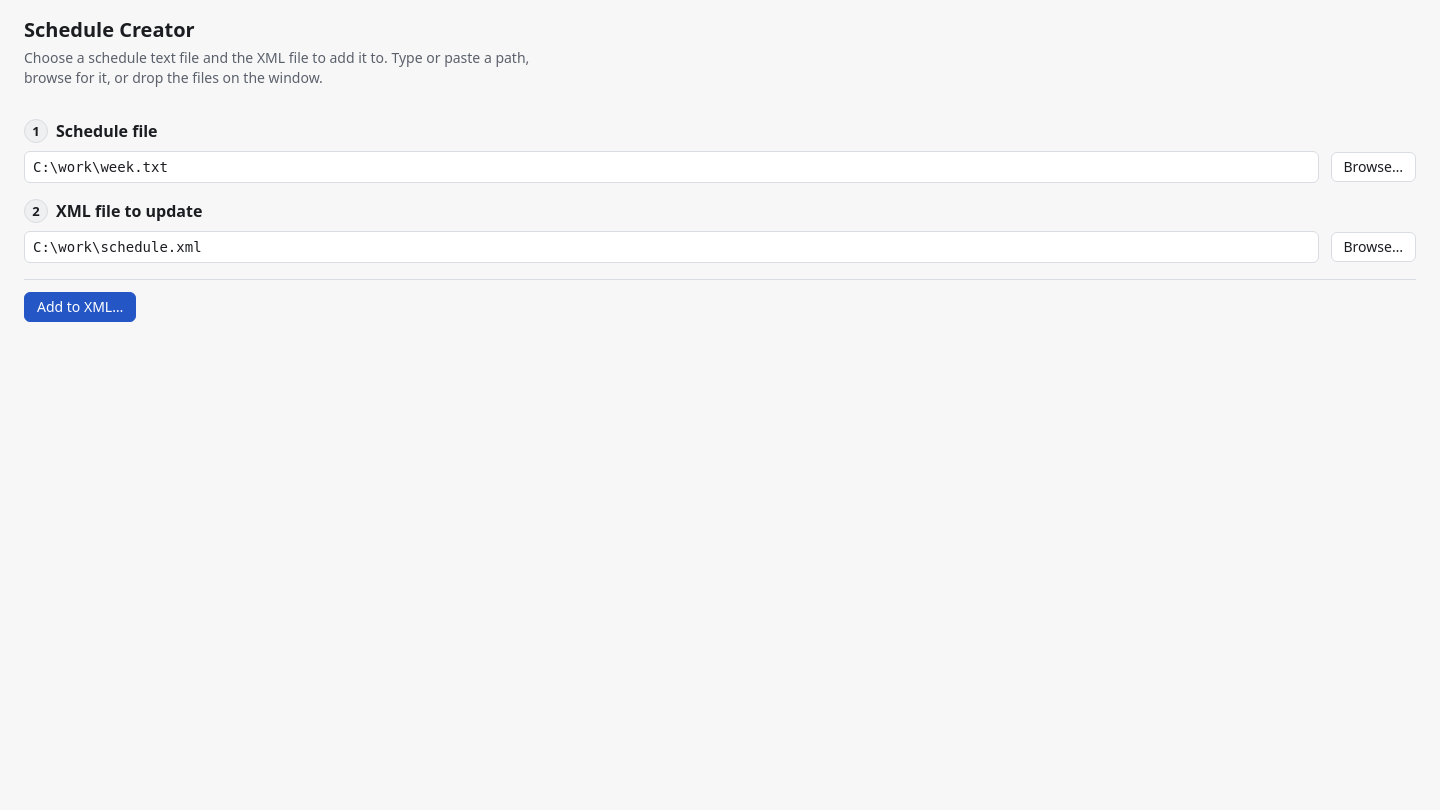
Test: adding confirms first, then reports the backup and moves focus to it
Expected: the field labelled "Schedule file" is shown, [24,151,1318,183]
Click the button "Add to XML…". click: (80, 307)
box: [24,292,136,322]
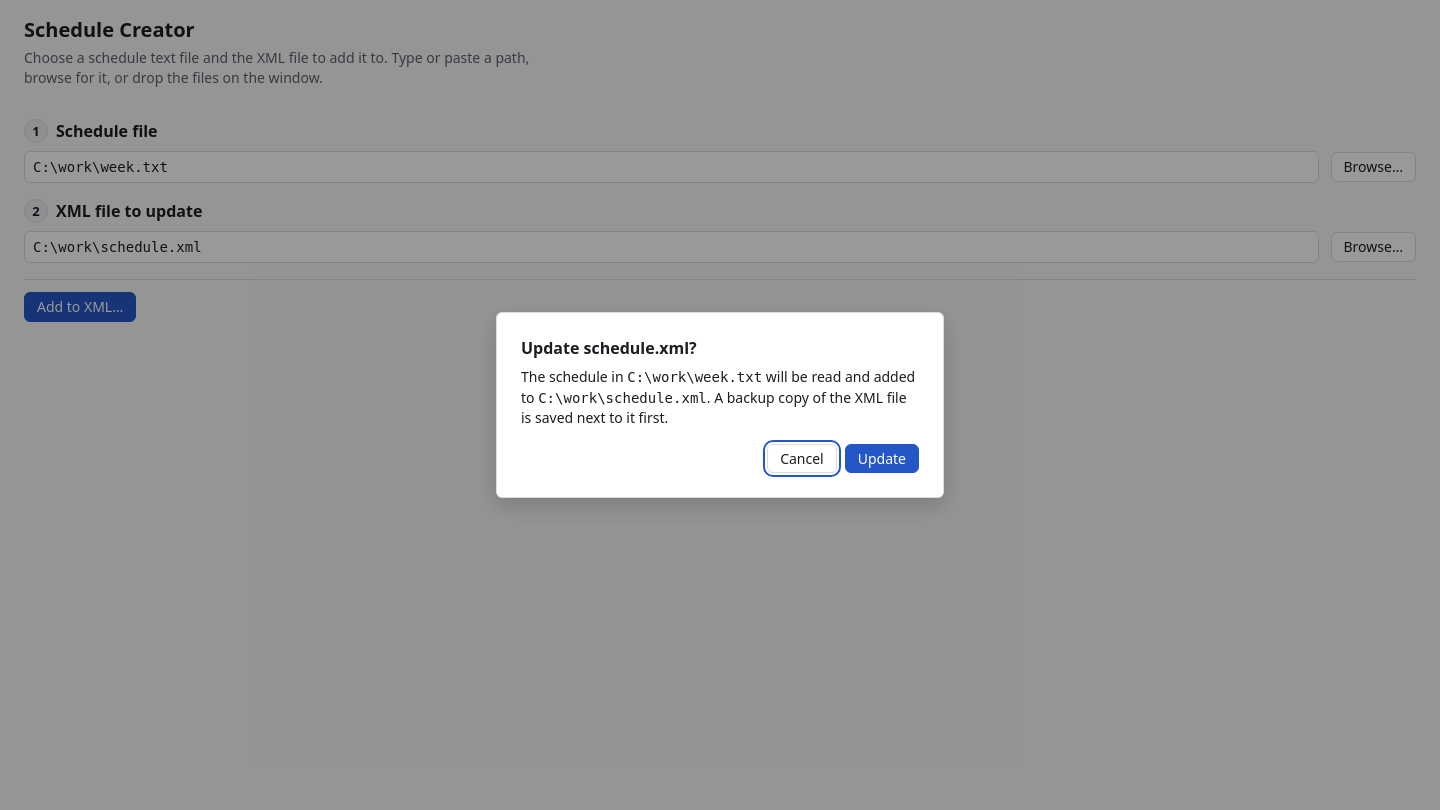
Expected: the dialog "Update schedule.xml?" does not show "already added", [496,312,944,498]
Click the button "Update". click: (882, 459)
box: [845,444,919,473]
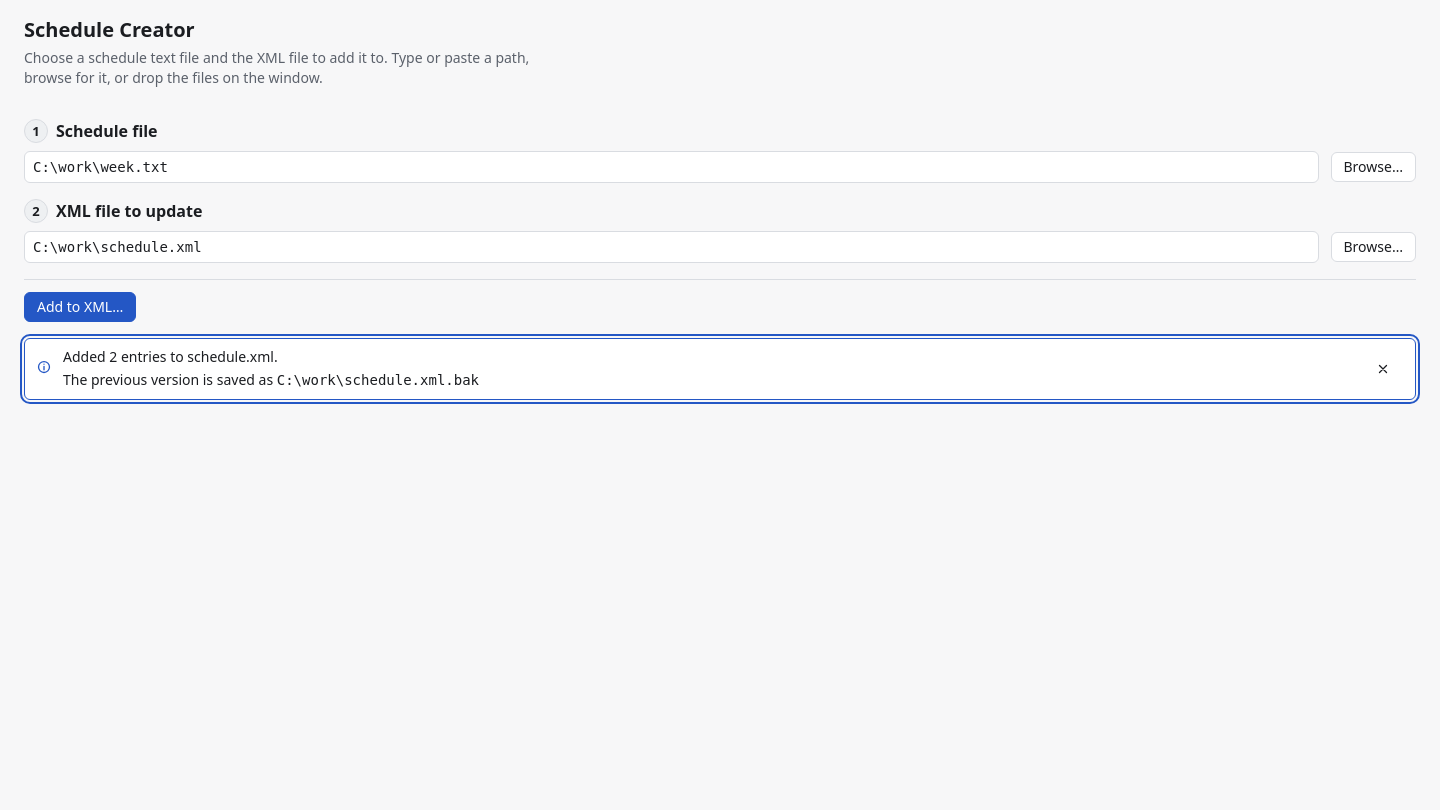
Click the button "Add to XML…". click: (80, 307)
box: [24,292,136,322]
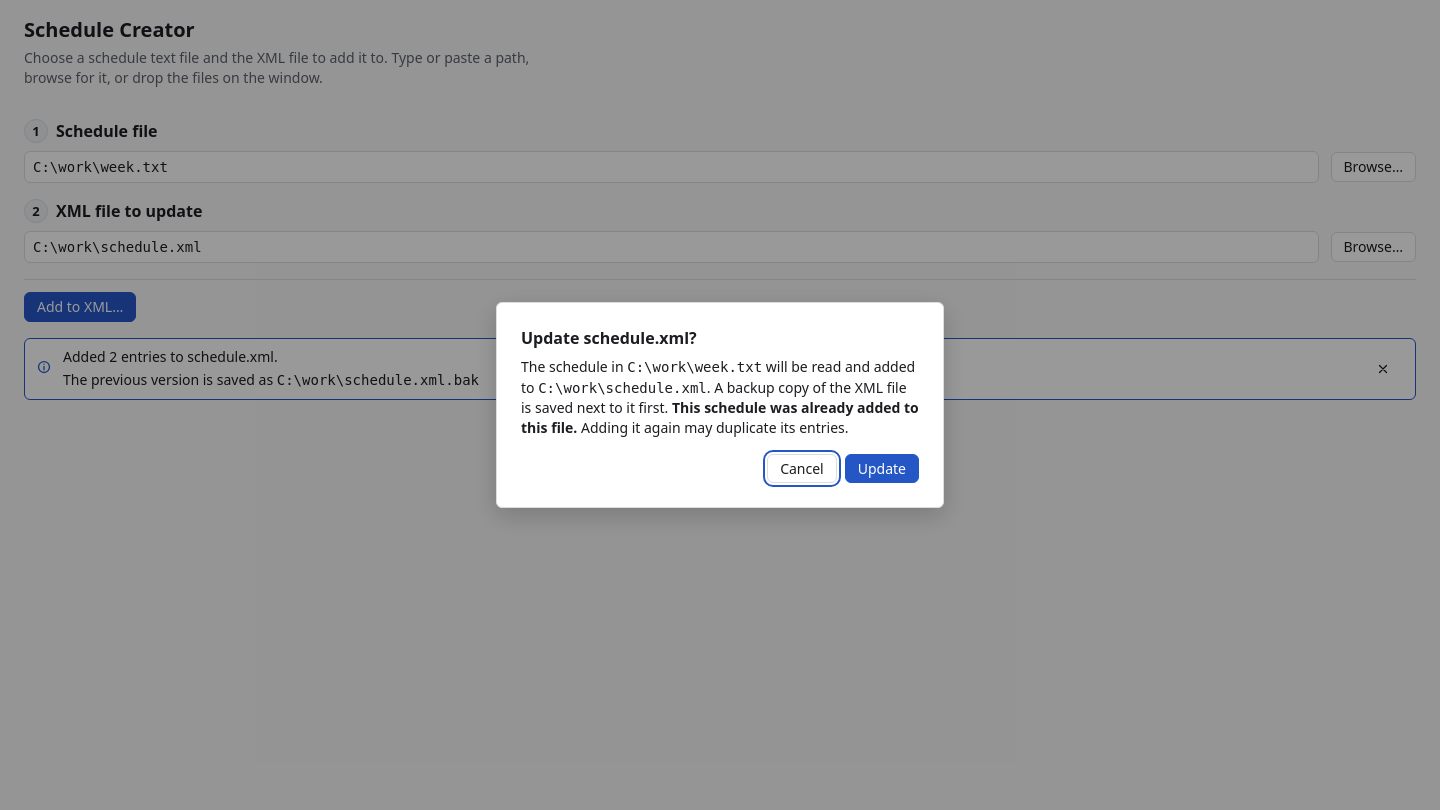
Expected: the dialog shows "This schedule was already added to this file.", [521,398,919,437]
